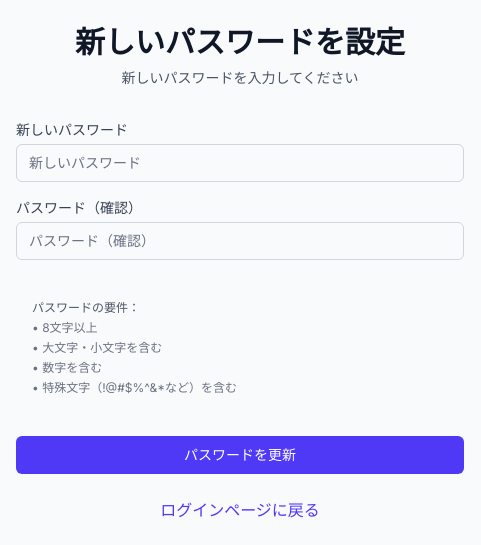
Test: ResetPasswordPage › トークンありの場合（パスワード設定） › 送信中は入力フィールドとボタンが無効になる
Type "NewTest123!@#" into the password field labelled "新しいパスワード".
click(240, 163); type("NewTest123!@#")  # box [16,144,464,182]
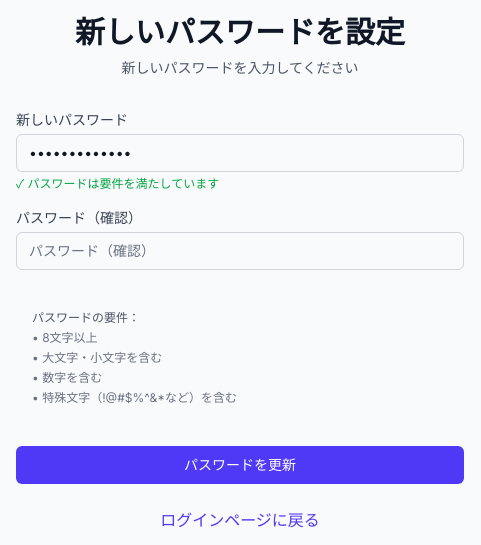
Type "NewTest123!@#" into the password field labelled "パスワード（確認）".
click(240, 251); type("NewTest123!@#")  # box [16,232,464,270]
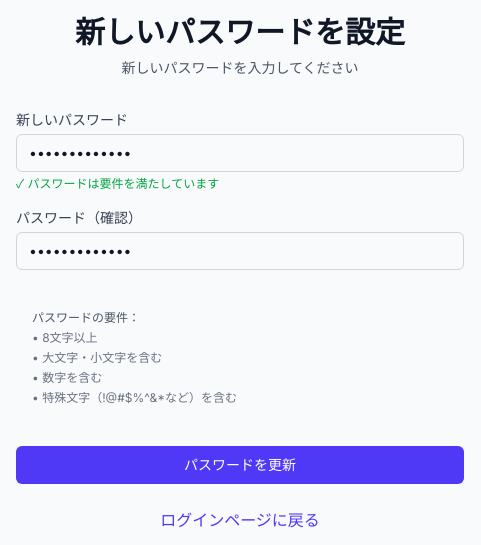
Click the button "パスワードを更新".
click(240, 465)  # box [16,446,464,484]
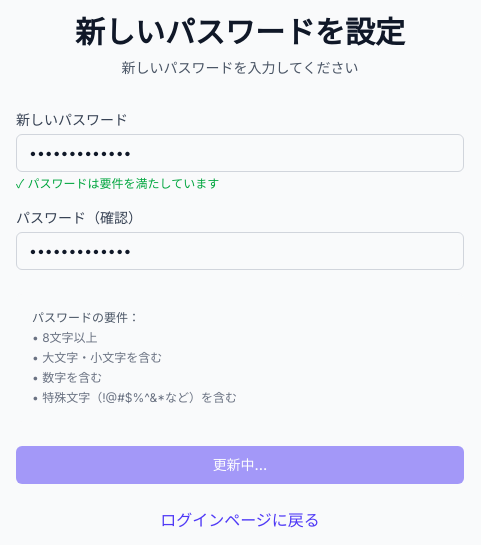
Check: the password field labelled "新しいパスワード" is disabled, box [16,134,464,172]
Check: the button "更新中..." is disabled, box [16,446,464,484]
